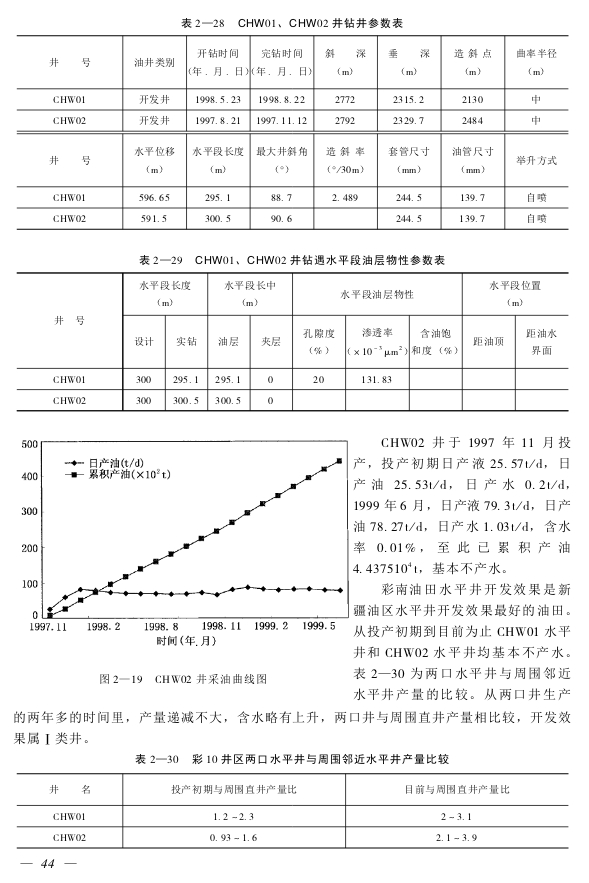table: (16, 35, 569, 230), (16, 272, 569, 412), (16, 773, 568, 849)
